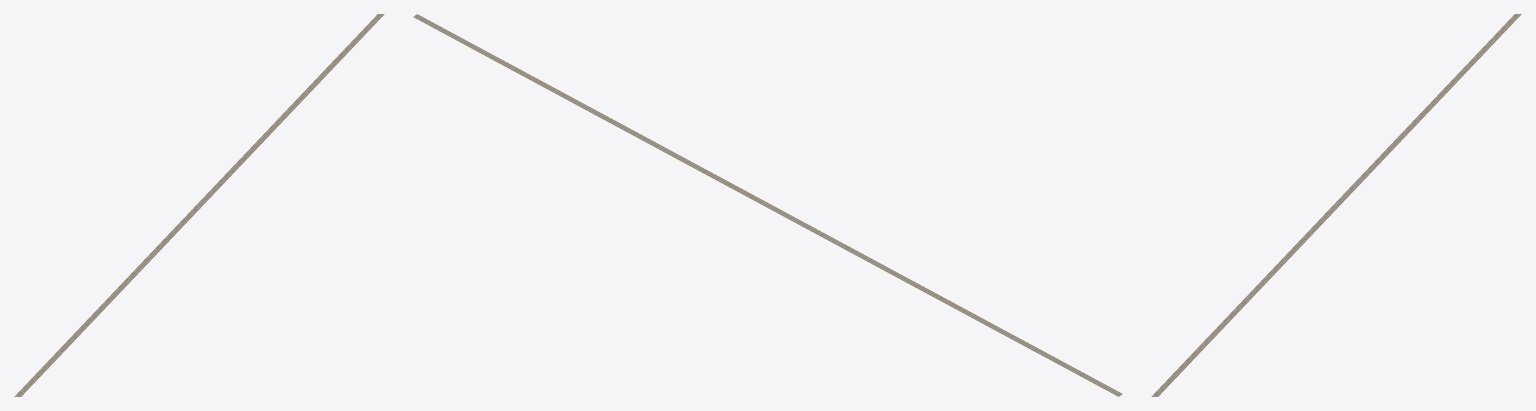
The picture shows the model from 3 angles, left to right: view 1: azimuth 90°, elevation 25°; view 2: azimuth 150°, elevation 25°; view 3: azimuth 270°, elevation 25°; orthographic projection. The views are drawn at different scales.
Parts seen in each view (by area): view 1: rail; view 2: rail; view 3: rail.
Part boxes in pixels (x1,y1,x2,y2): rail: [14, 14, 384, 396]; rail: [413, 14, 1122, 396]; rail: [1151, 14, 1521, 396].
Bounding box in the file's own units: 500 × 0.04 × 205.
